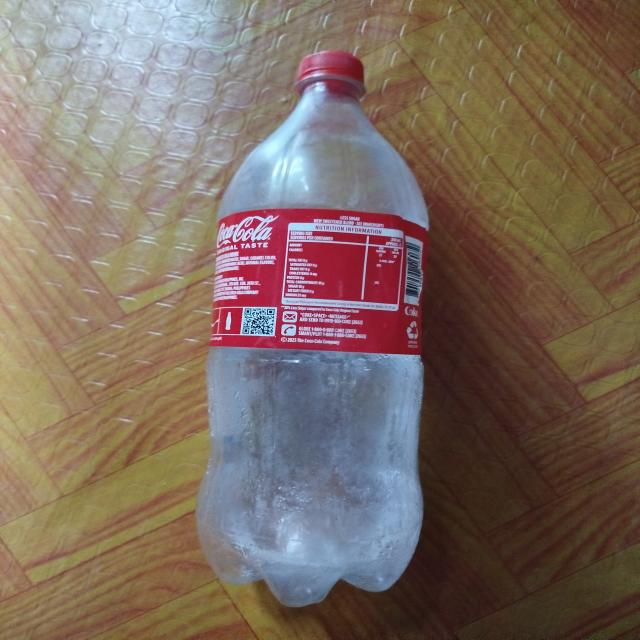plastic: (196, 37, 436, 614)
